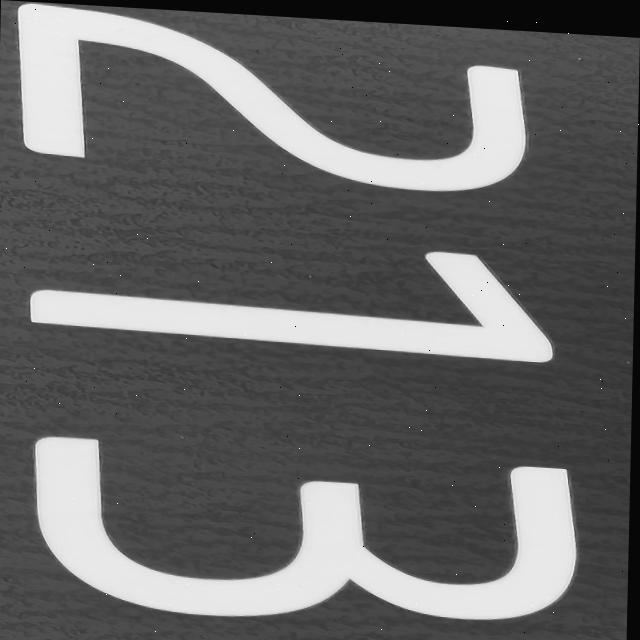character: (18, 428, 586, 640), (3, 0, 537, 203), (13, 220, 563, 372)
